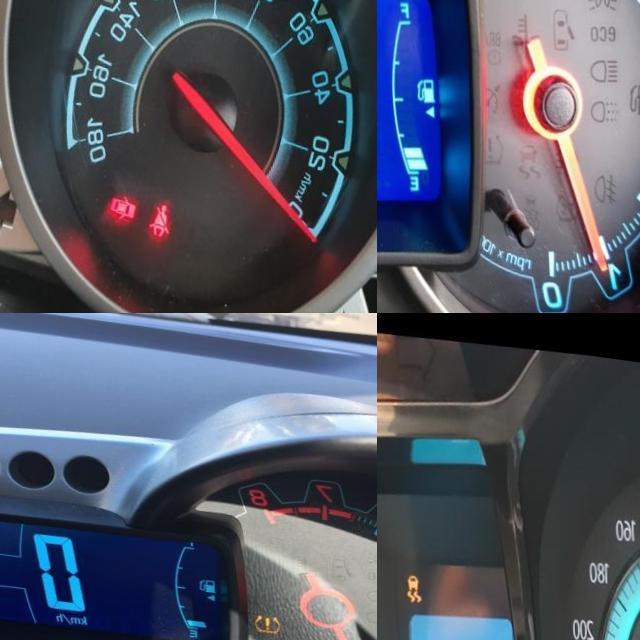Doors: (109, 183, 141, 218)
